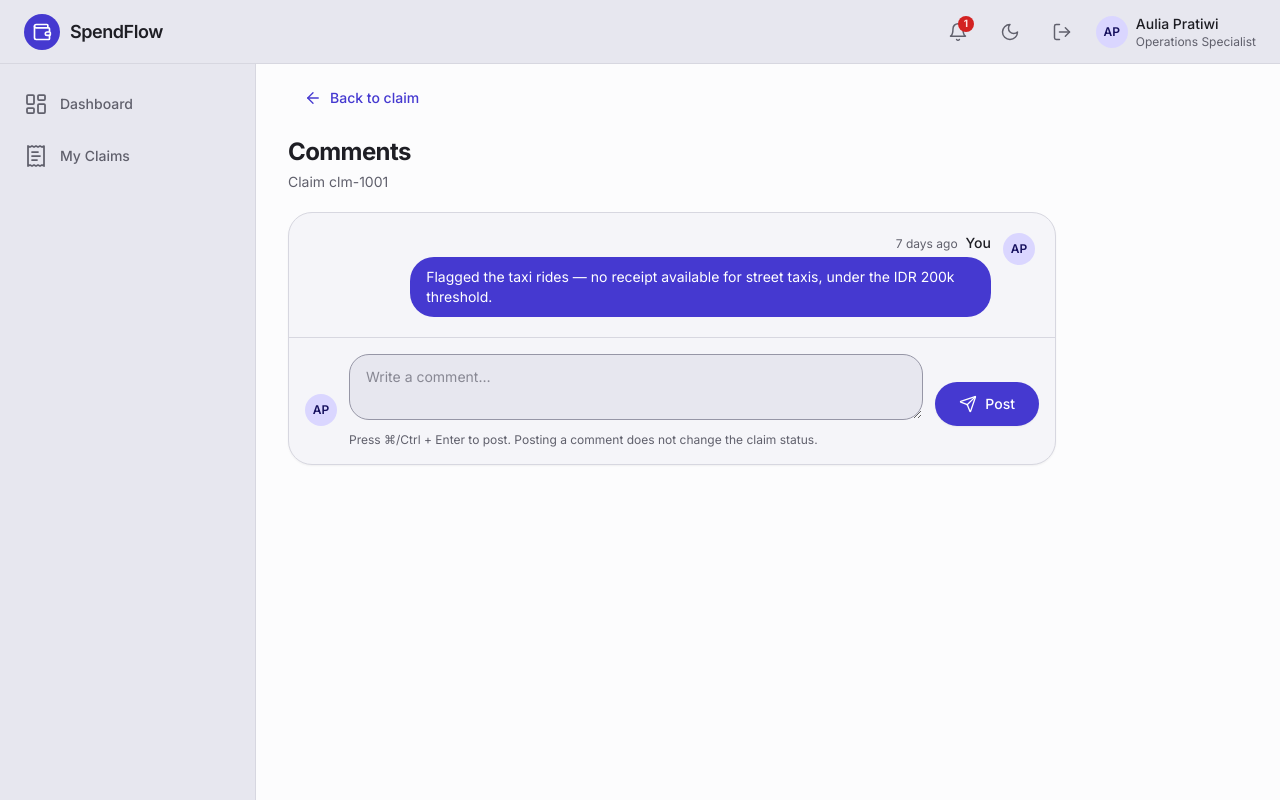
Test: Claim comments — validation, append, ordering & participant gate › blocks an empty comment with a validation message, then appends a valid comment
Expected: the text "Flagged the taxi rides" is shown, [426,268,954,305]
// Empty submit → validation message, nothing appended.
Click the button with aria-label "post comment". click: point(987, 404)
box: [935,382,1039,426]
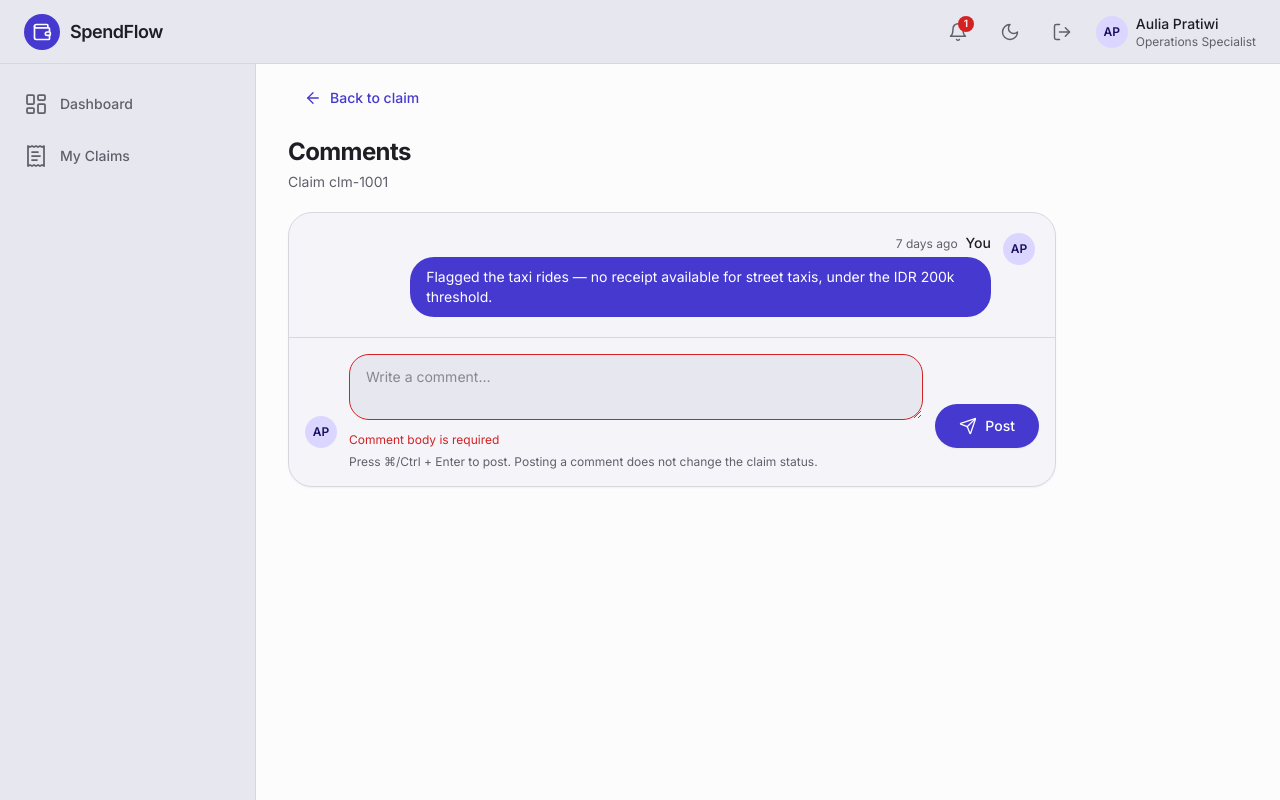
Now the text "Comment body is required" is shown, box [349,432,499,447]
// Type and post → new comment appears at the end of the thread.
Type "Heads up — expensing the airport taxi." into the text box named "add a comment". click: point(636, 387)
box: [349,354,923,420]
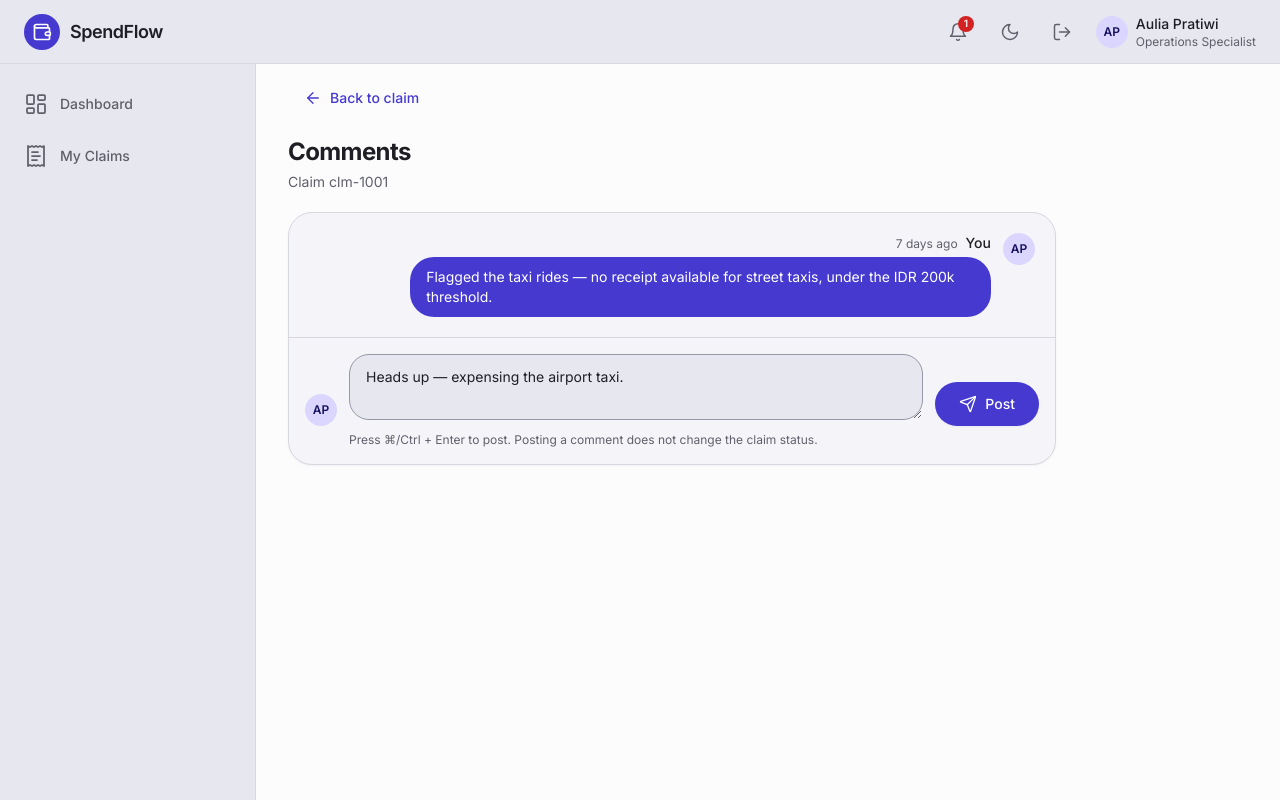
Click the button with aria-label "post comment". click: point(987, 404)
box: [935,382,1039,426]
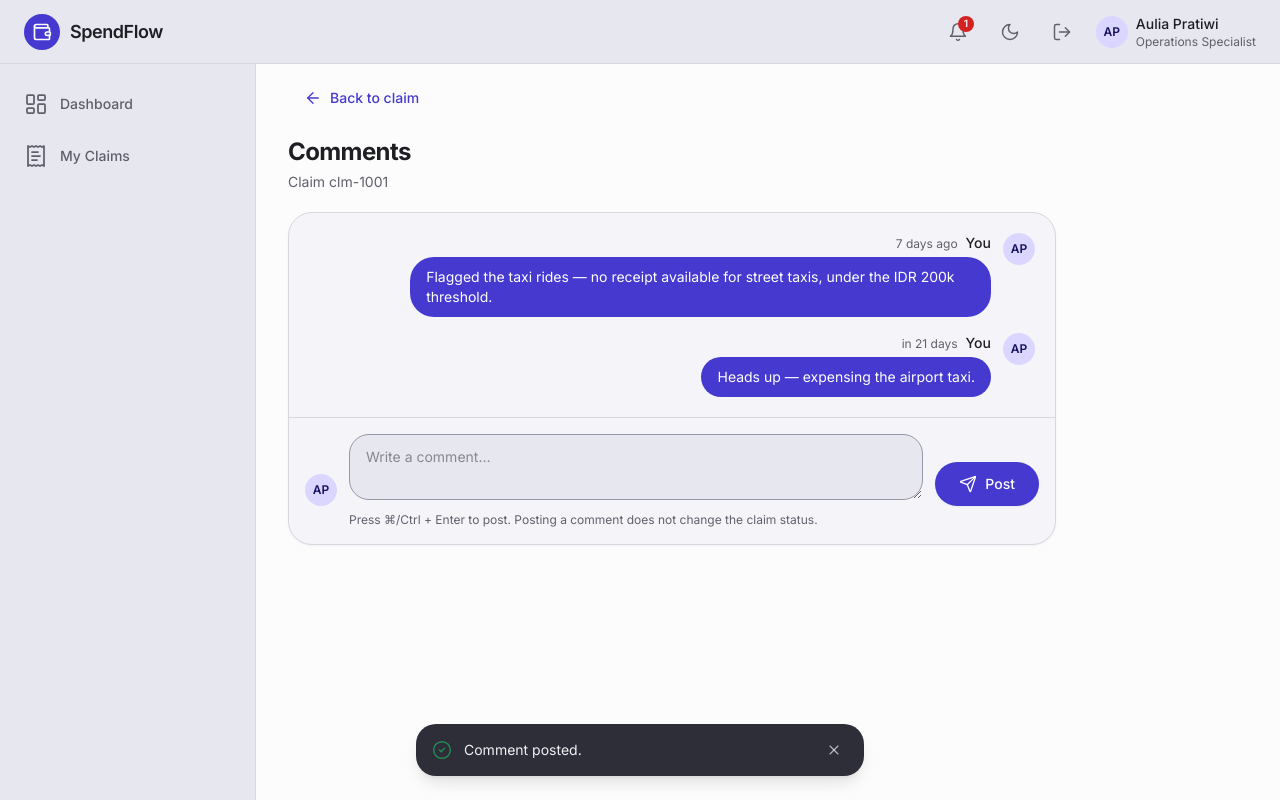
Now the text "Heads up — expensing the airport taxi." is shown, box [702,357,991,397]
